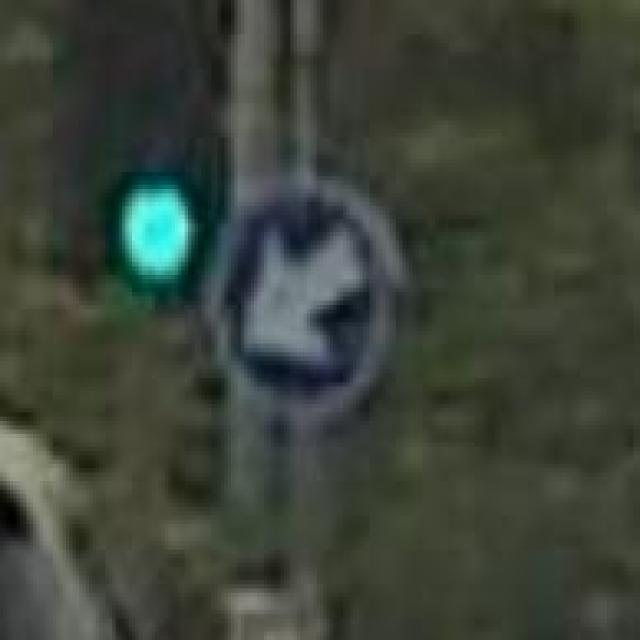traffic sign: (218, 189, 383, 416)
